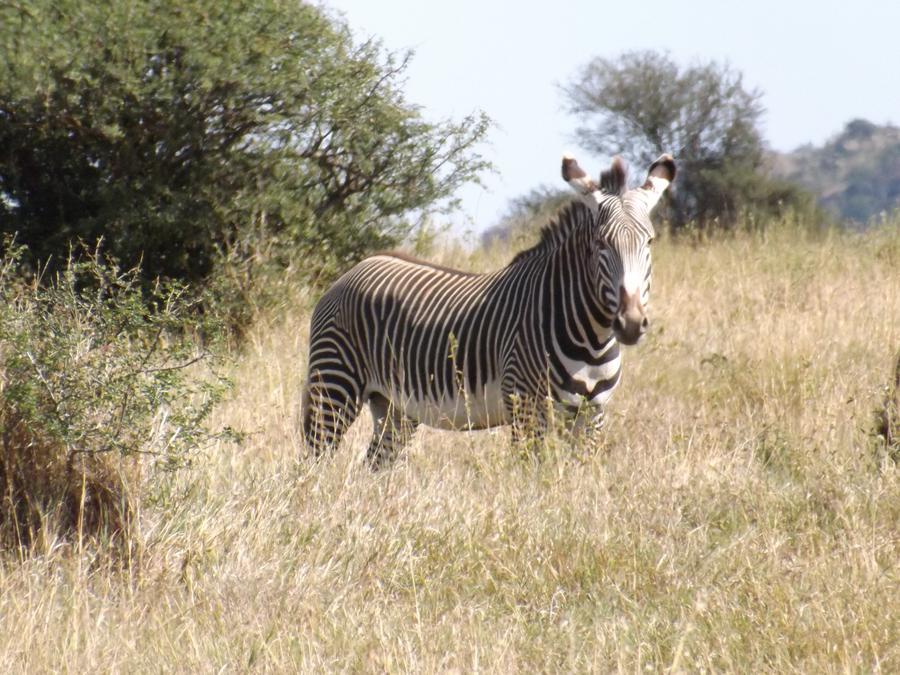zebra_grevys: (306, 220, 576, 422)
